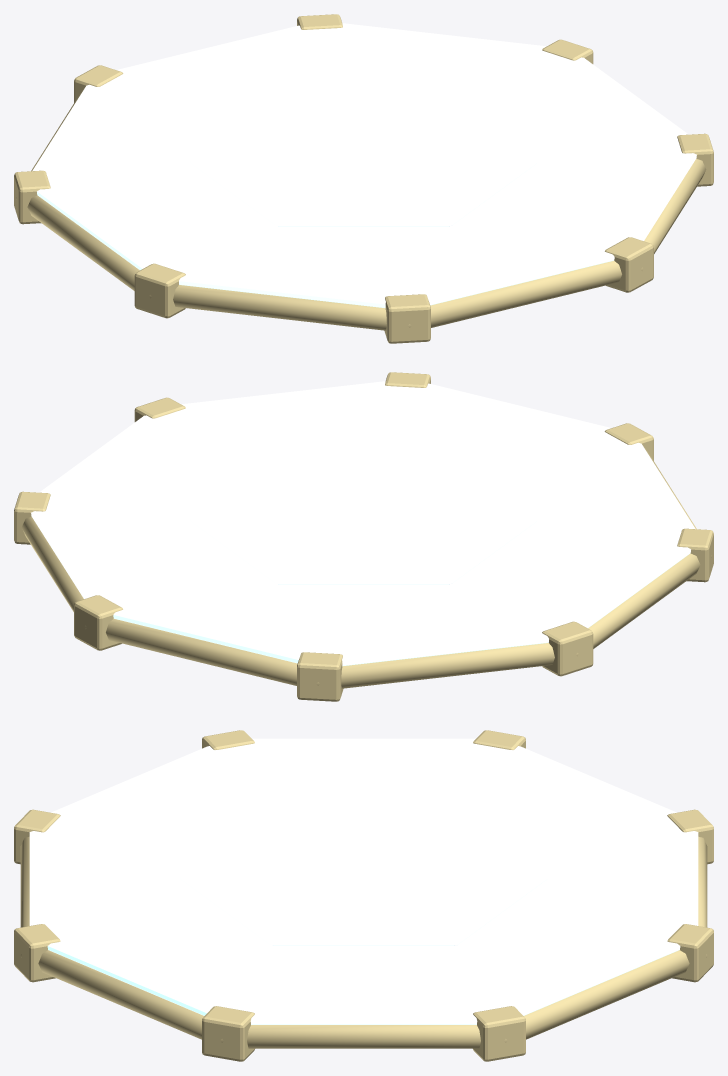
Rendered from shatter_pane.glb.
The picture shows the model from 3 angles, top to bottom: view 1: azimuth 30°, elevation 25°; view 2: azimuth 150°, elevation 25°; view 3: azimuth 270°, elevation 25°; orthographic projection. The views are drawn at different scales.
Parts seen in each view (by area): view 1: CrystalPrismTop, CenterFacetStar, IcyGoldRim; view 2: CrystalPrismTop, CenterFacetStar, IcyGoldRim; view 3: CrystalPrismTop, CenterFacetStar, IcyGoldRim.
Boxes of the visible parts, <box> form: CrystalPrismTop: <box>32,23,696,308</box>; CenterFacetStar: <box>190,98,537,226</box>; IcyGoldRim: <box>14,14,713,343</box>; CrystalPrismTop: <box>31,381,695,666</box>; CenterFacetStar: <box>190,456,537,584</box>; IcyGoldRim: <box>14,372,713,701</box>; CrystalPrismTop: <box>29,738,698,1024</box>; CenterFacetStar: <box>180,810,547,945</box>; IcyGoldRim: <box>14,730,713,1061</box>.
Bounding box in the file's own units: 3.61 × 0.5 × 3.61.
